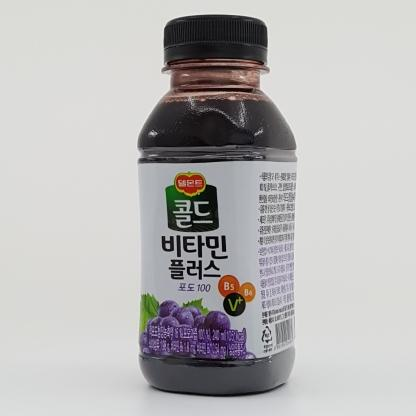---------------240ML: (137, 14, 298, 395)
